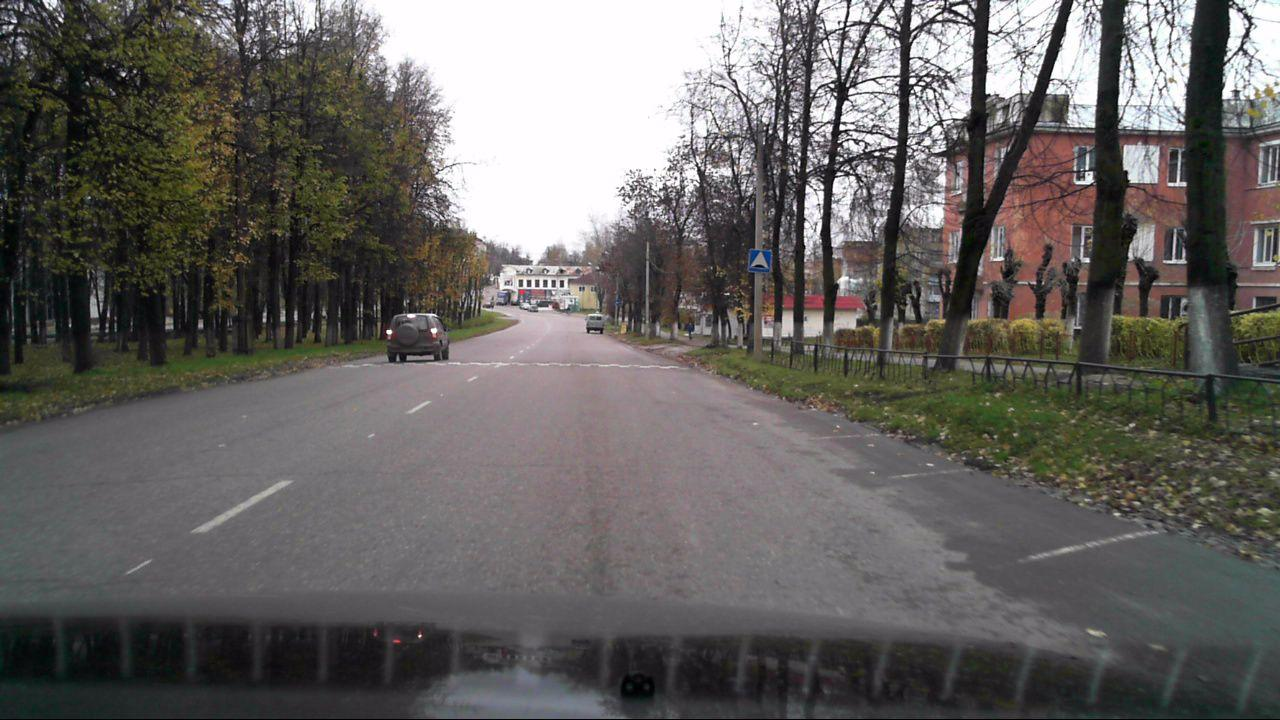5_20: (747, 248, 771, 273)
